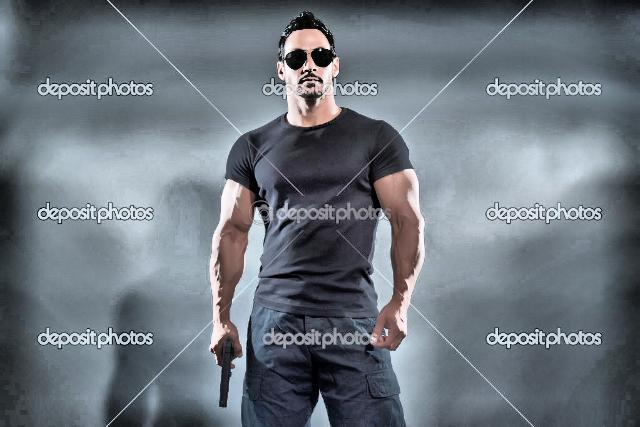pistol: (202, 322, 244, 414)
